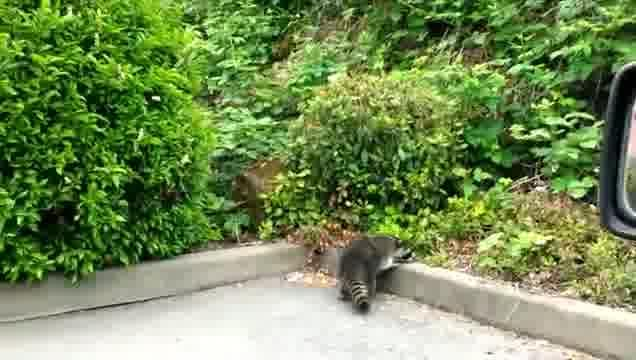raccoon: (333, 233, 408, 310)
